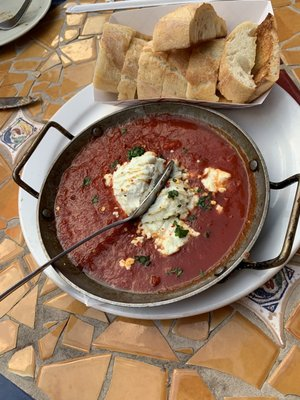salad: (0, 160, 176, 320)
soup: (217, 11, 281, 104)
sushi: (37, 102, 276, 303)
